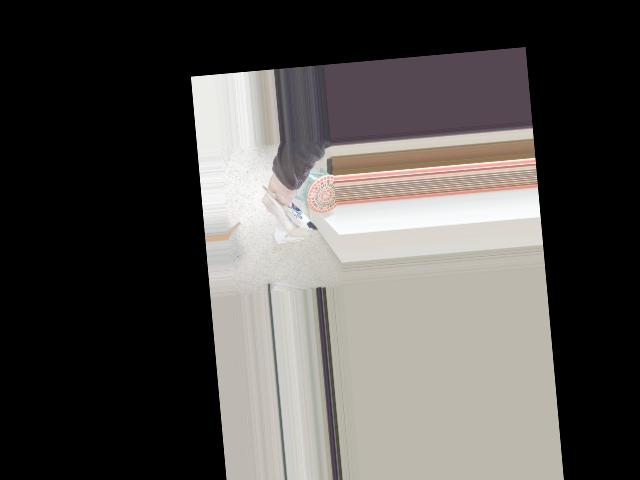cheese: (253, 170, 327, 250)
